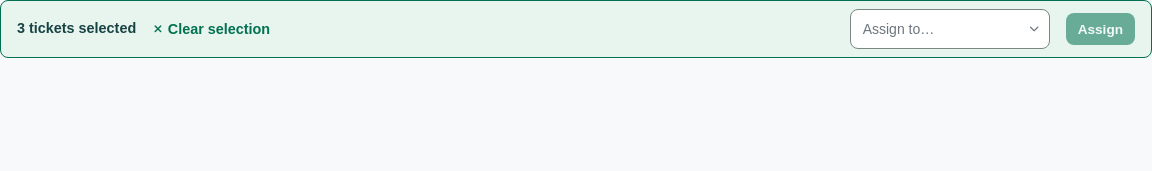
Test: when the assignee list could not be loaded › still lets the batch go back to the pool
This screenshot has width=1152, height=171.
Press the mouse on the element named "Assign to" at coordinates (950, 29), box [850,9,1050,49]
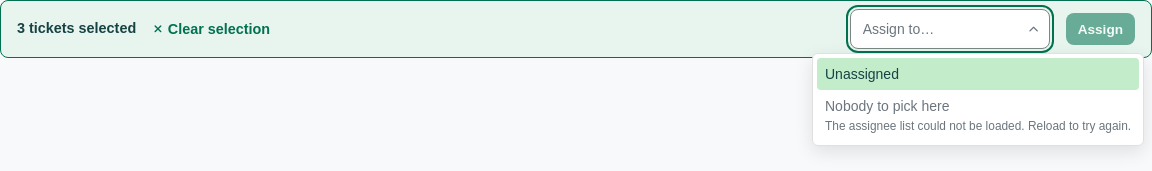
Press the mouse on the option "Unassigned" at coordinates (862, 74), box [817,58,1139,90]
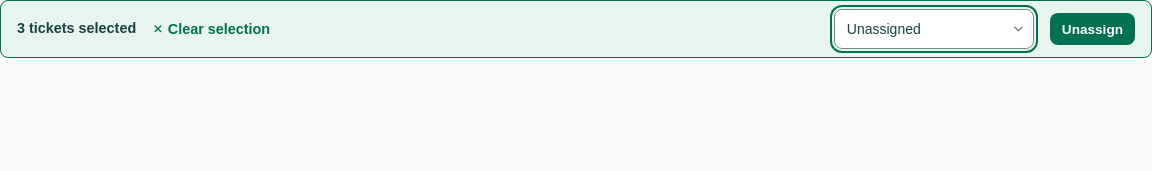
Now the button with class "bulk-assign__go" is enabled, box [1050,13,1135,45]
